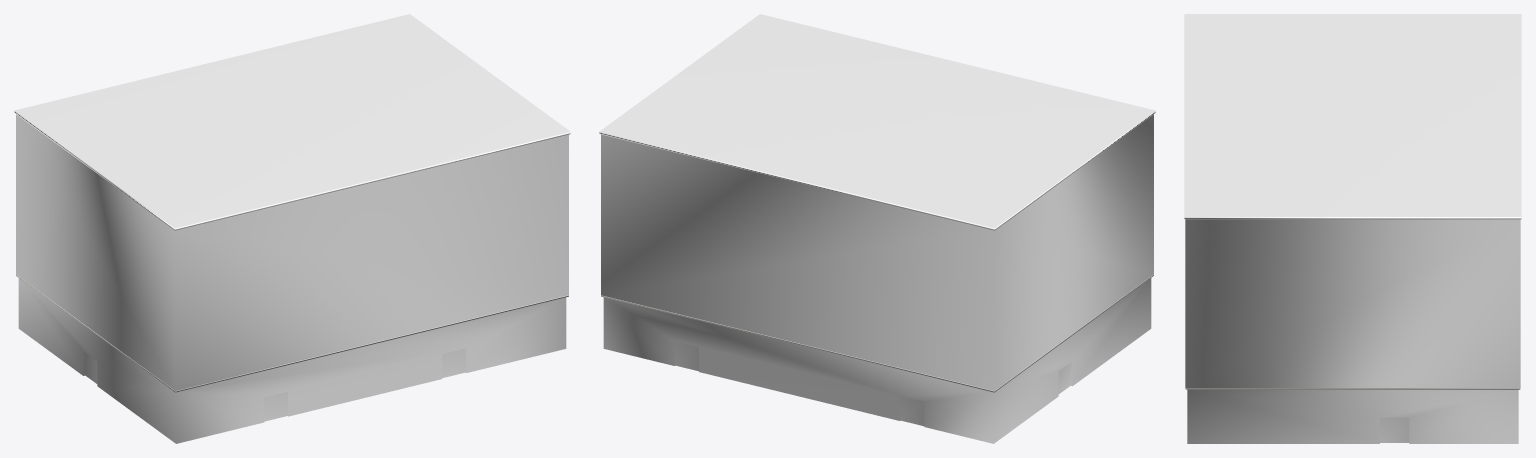
The model's file is gebaeude_02.fbx.
The picture shows the model from 3 angles, left to right: view 1: azimuth 30°, elevation 25°; view 2: azimuth 150°, elevation 25°; view 3: azimuth 270°, elevation 25°; orthographic projection. The views are drawn at different scales.
Visible parts, largest first — view 1: Mesh; view 2: Mesh; view 3: Mesh.
Part boxes in pixels (bbox=[...]): Mesh: bbox=[14, 14, 570, 443]; Mesh: bbox=[599, 14, 1155, 443]; Mesh: bbox=[1184, 14, 1521, 443].
Size of the model in its own units: 3336 by 1754 by 2347.
